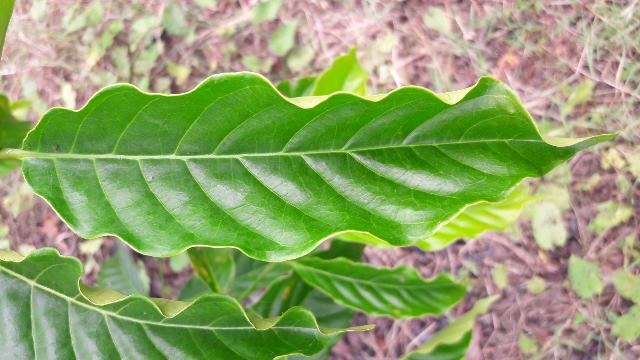healthy: (15, 73, 618, 260)
